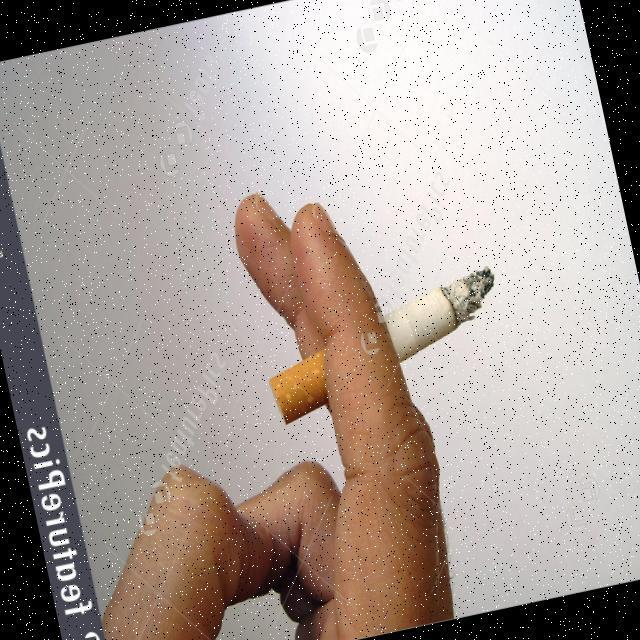cigarette: (362, 259, 514, 359)
